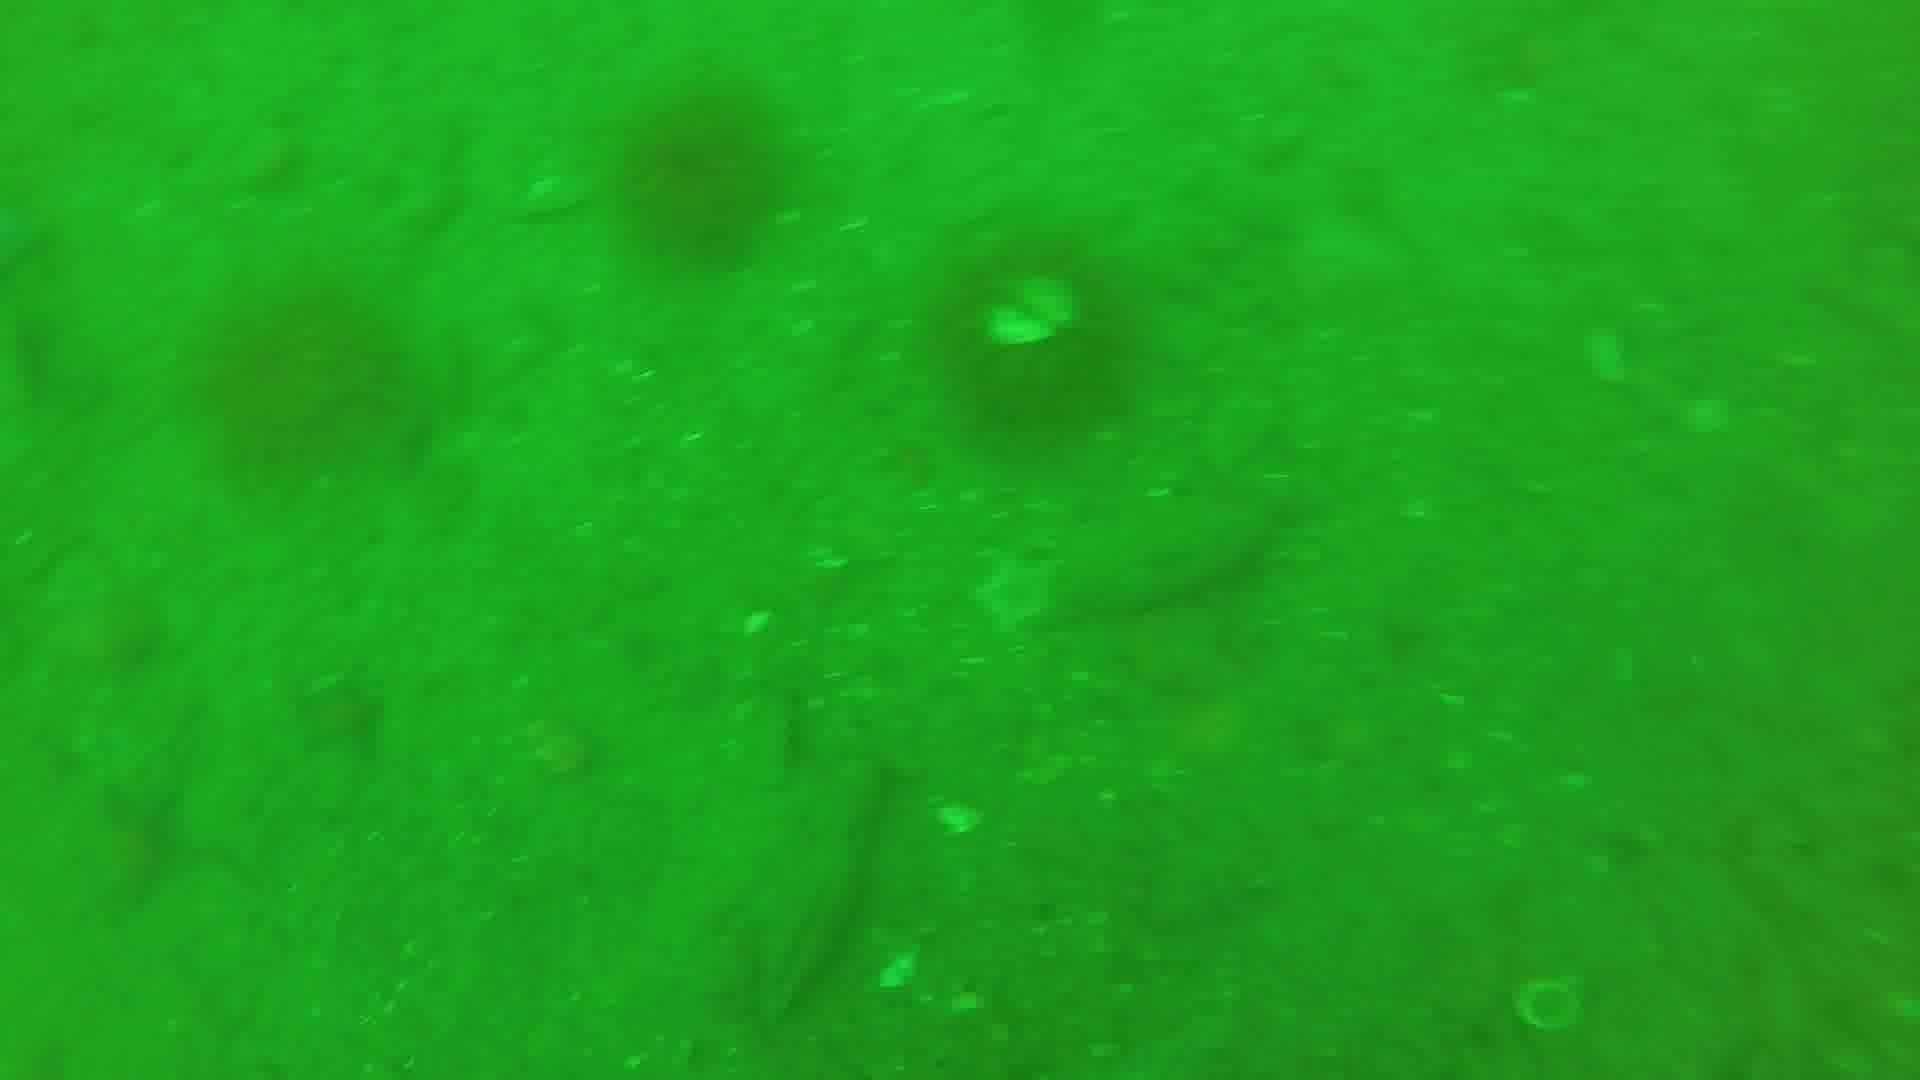echinus: (919, 227, 1149, 448), (191, 273, 415, 481), (609, 82, 796, 276)
